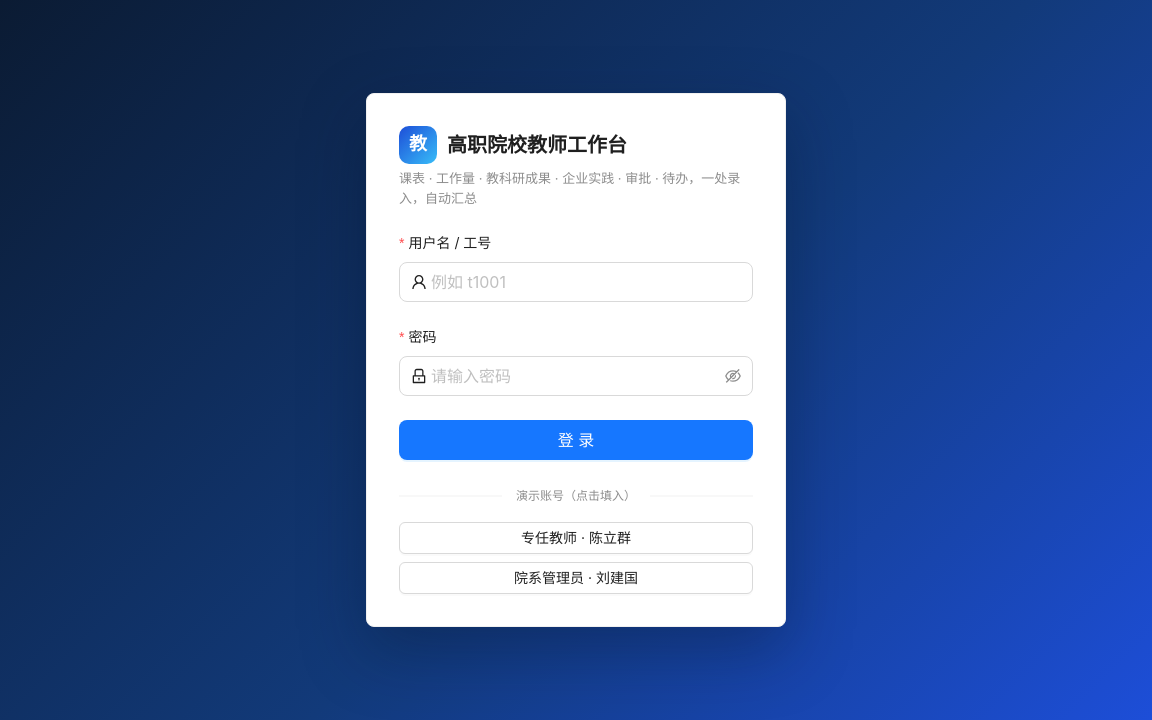
Test case: LoginPage › 点击演示账号自动填入用户名与密码
The width and height of the screenshot is (1152, 720).
Click the button "专任教师 · 陈立群": [576, 538] box [399, 522, 753, 554]
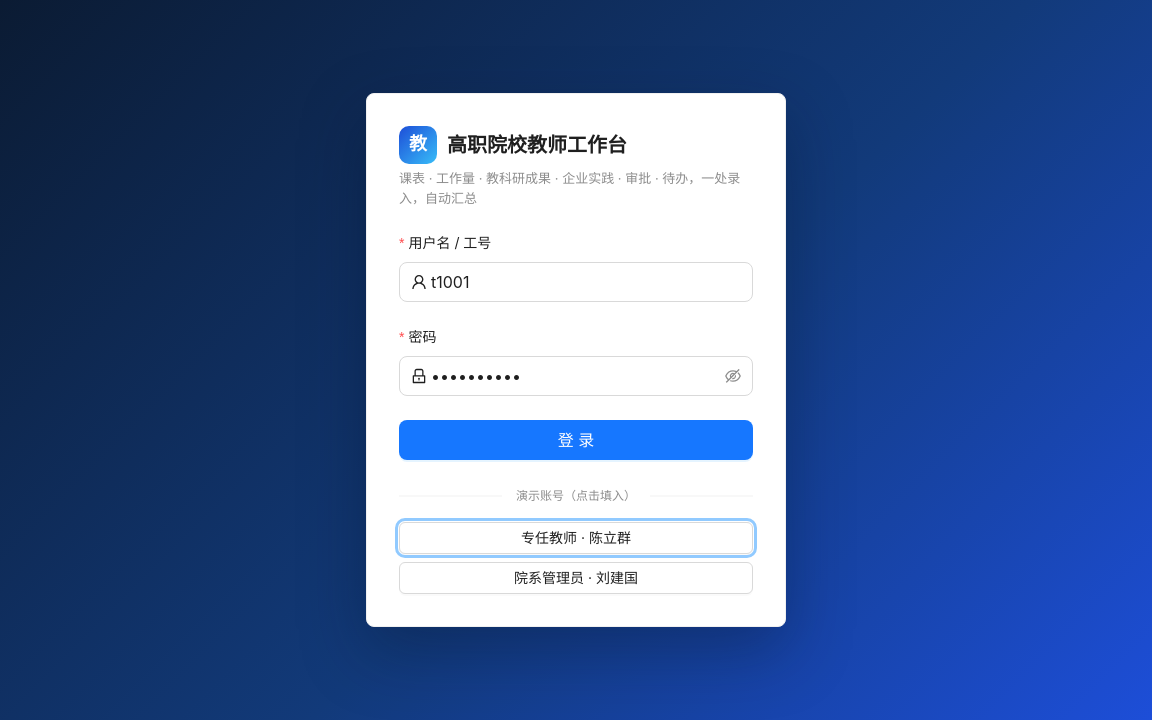
Now the field with placeholder "例如 t1001" holds "t1001", box [431, 270, 741, 294]
Now the password field with placeholder "请输入密码" holds "Teach@2026", box [431, 364, 721, 388]
